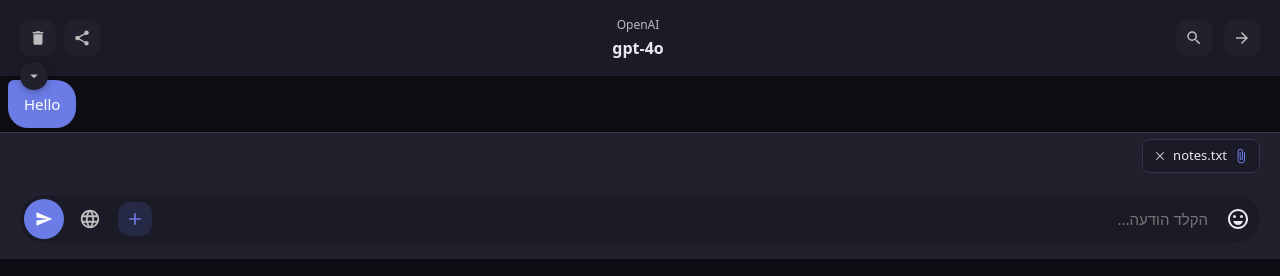
Scenario: ChatPage — removing un-sent attachments › deletes an uploaded file from the server as soon as it is removed
Earlier steps of the test are not shown.
Click the button named "Remove attachment" at {"x": 1160, "y": 156}, box [1153,149,1167,163]
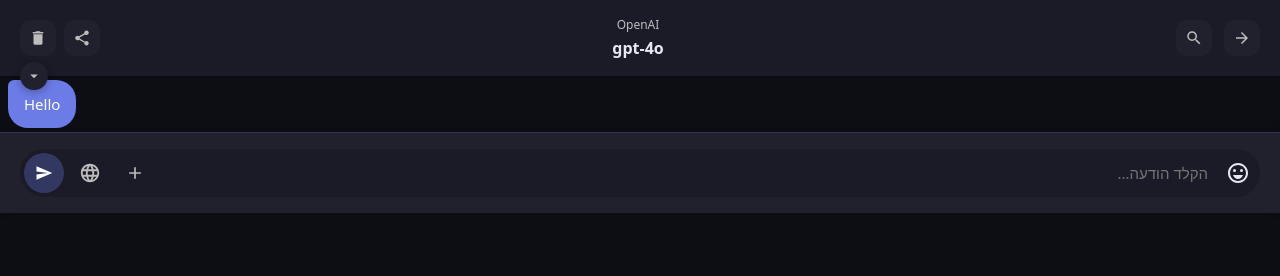
Now no elements with test id "draft-attachment" are shown
